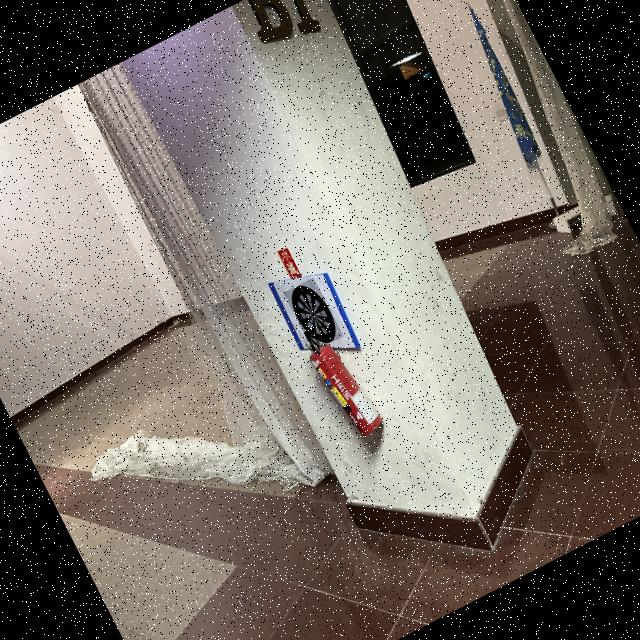archery-targets: (284, 277, 344, 351)
